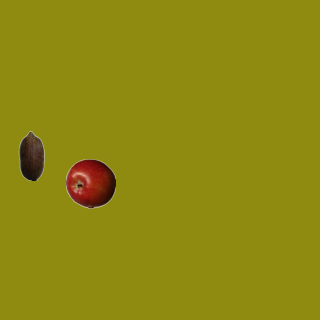Apple Braeburn: (65, 158, 115, 208)
Nut Pecan: (6, 130, 56, 180)
